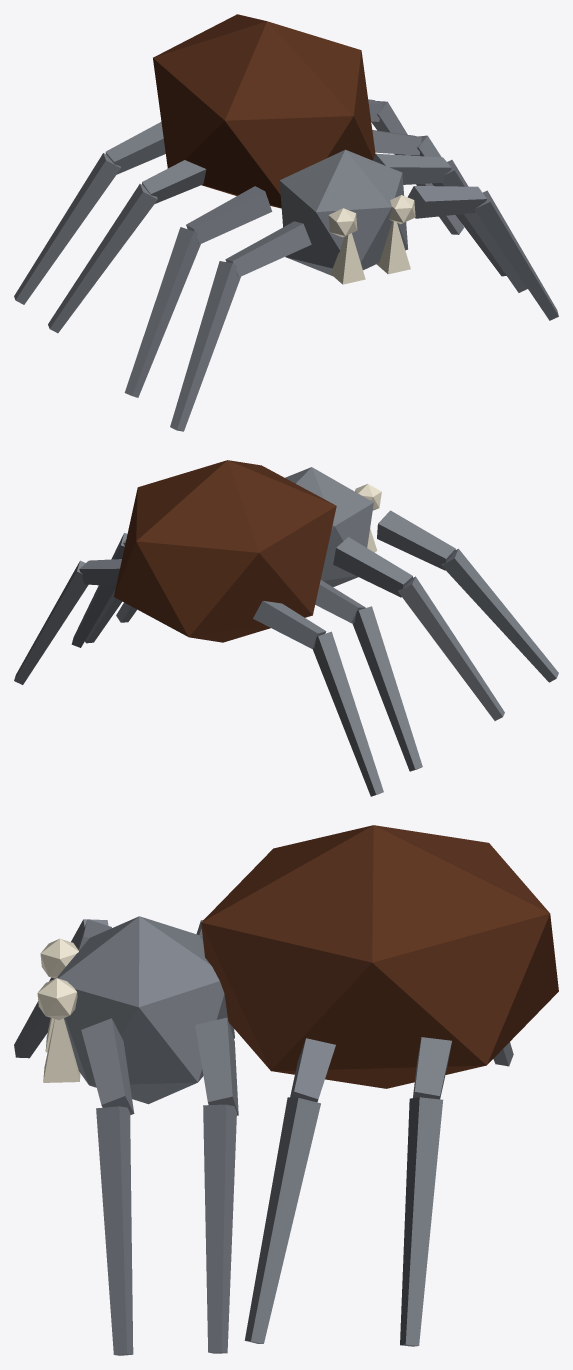
The model's file is npcpose_spider_walk_07.glb.
3 renders of one model, top to bottom at view 1: azimuth 30°, elevation 25°; view 2: azimuth 150°, elevation 25°; view 3: azimuth 270°, elevation 25°, orthographic. The views are drawn at different scales.
Parts seen in each view (by area): view 1: npcpose; view 2: npcpose; view 3: npcpose.
Boxes of the visible parts, x1,y1,x2,y2 form: npcpose: (14,14,558,431); npcpose: (14,460,558,796); npcpose: (14,825,558,1355).
Bounding box in the file's own units: 1.35 × 0.8455 × 1.05.
